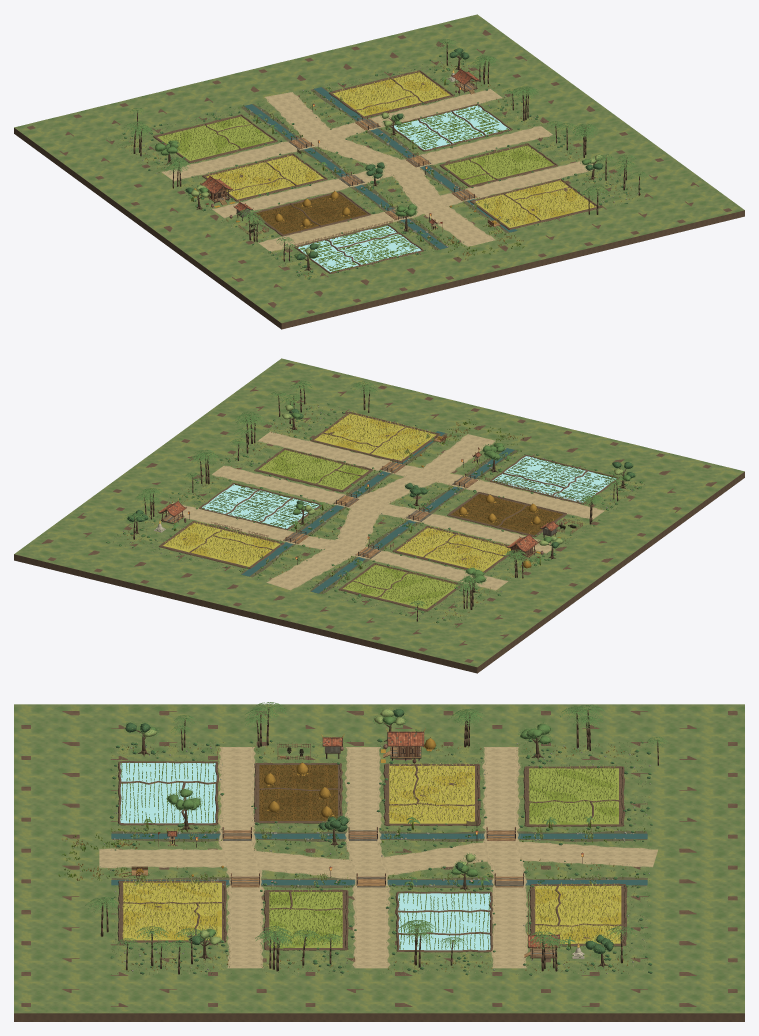
Rendered from rice-fields.glb.
3 views of the same model, one above another, from view 1: azimuth 30°, elevation 25°; view 2: azimuth 150°, elevation 25°; view 3: azimuth 270°, elevation 25° (orthographic). The views are drawn at different scales.
Visible parts, largest first — view 1: Ground - varied meadow | grass, Tracks - worn earth | path, Soil foundation | earth, Dense low rice canopy | rice, Water surface | paddy_water, Paddy bund ridges | earth, Dense rice blades | rice, Feathered road shoulders | path_edge, Dense low rice canopy | rice2, Dense rice blades | rice_seedling, Dense rice blades | rice2, Water surface | water (+17 smaller); view 2: Ground - varied meadow | grass, Tracks - worn earth | path, Soil foundation | earth, Dense low rice canopy | rice, Water surface | paddy_water, Paddy bund ridges | earth, Dense rice blades | rice, Feathered road shoulders | path_edge, Dense low rice canopy | rice2, Dense rice blades | rice_seedling, Dense rice blades | rice2, Water surface | water (+18 smaller); view 3: Ground - varied meadow | grass, Tracks - worn earth | path, Soil foundation | earth, Dense low rice canopy | rice, Water surface | paddy_water, Paddy bund ridges | earth, Dense rice blades | rice, Feathered road shoulders | path_edge, Dense low rice canopy | rice2, Dense rice blades | rice2, Water surface | water, Dense low rice canopy | rice_shade (+30 smaller).
Part boxes in pixels (bbox=[...]): Ground - varied meadow | grass: bbox=[14, 14, 744, 323]; Tracks - worn earth | path: bbox=[163, 89, 592, 250]; Soil foundation | earth: bbox=[14, 24, 744, 329]; Dense low rice canopy | rice: bbox=[207, 72, 595, 227]; Water surface | paddy_water: bbox=[298, 105, 509, 272]; Paddy bund ridges | earth: bbox=[153, 70, 600, 273]; Dense rice blades | rice: bbox=[211, 71, 594, 226]; Feathered road shoulders | path_edge: bbox=[161, 89, 596, 251]; Dense low rice canopy | rice2: bbox=[157, 116, 550, 185]; Dense rice blades | rice_seedling: bbox=[297, 105, 508, 272]; Dense rice blades | rice2: bbox=[162, 116, 551, 183]; Water surface | water: bbox=[244, 87, 517, 249]; Ground - varied meadow | grass: bbox=[14, 358, 744, 667]; Tracks - worn earth | path: bbox=[167, 432, 603, 589]; Soil foundation | earth: bbox=[14, 363, 744, 673]; Dense low rice canopy | rice: bbox=[163, 413, 510, 570]; Water surface | paddy_water: bbox=[202, 456, 616, 528]; Paddy bund ridges | earth: bbox=[159, 411, 619, 611]; Dense rice blades | rice: bbox=[165, 411, 510, 569]; Feathered road shoulders | path_edge: bbox=[164, 431, 604, 590]; Dense low rice canopy | rice2: bbox=[259, 451, 458, 609]; Dense rice blades | rice_seedling: bbox=[201, 457, 616, 528]; Dense rice blades | rice2: bbox=[260, 449, 455, 607]; Water surface | water: bbox=[241, 431, 514, 593]; Ground - varied meadow | grass: bbox=[14, 704, 744, 1013]; Tracks - worn earth | path: bbox=[99, 747, 657, 968]; Soil foundation | earth: bbox=[14, 711, 744, 1021]; Dense low rice canopy | rice: bbox=[123, 765, 621, 943]; Water surface | paddy_water: bbox=[120, 762, 490, 950]; Paddy bund ridges | earth: bbox=[117, 761, 627, 952]; Dense rice blades | rice: bbox=[122, 762, 619, 941]; Feathered road shoulders | path_edge: bbox=[99, 747, 657, 968]; Dense low rice canopy | rice2: bbox=[269, 768, 618, 947]; Dense rice blades | rice2: bbox=[268, 765, 617, 946]; Water surface | water: bbox=[111, 833, 647, 885]; Dense low rice canopy | rice_shade: bbox=[123, 766, 621, 943].
Size of the model in its own units: 180 by 13.79 by 180.
63 materials, 63 textured.
